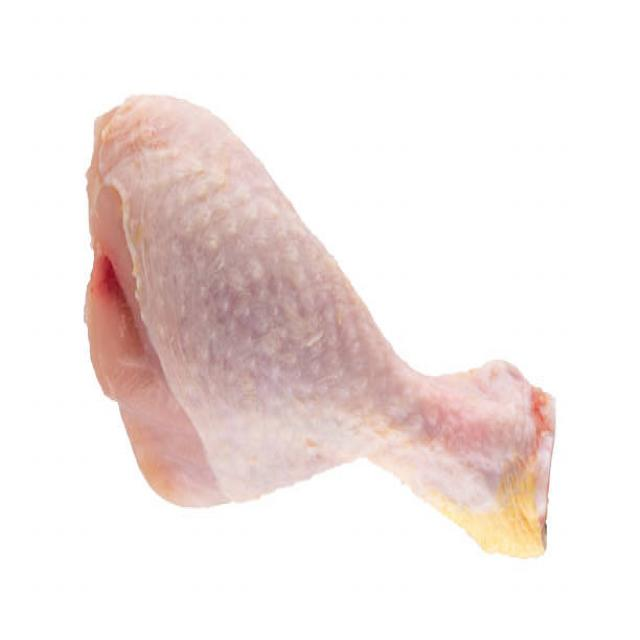chicken wing: (79, 92, 563, 576)
